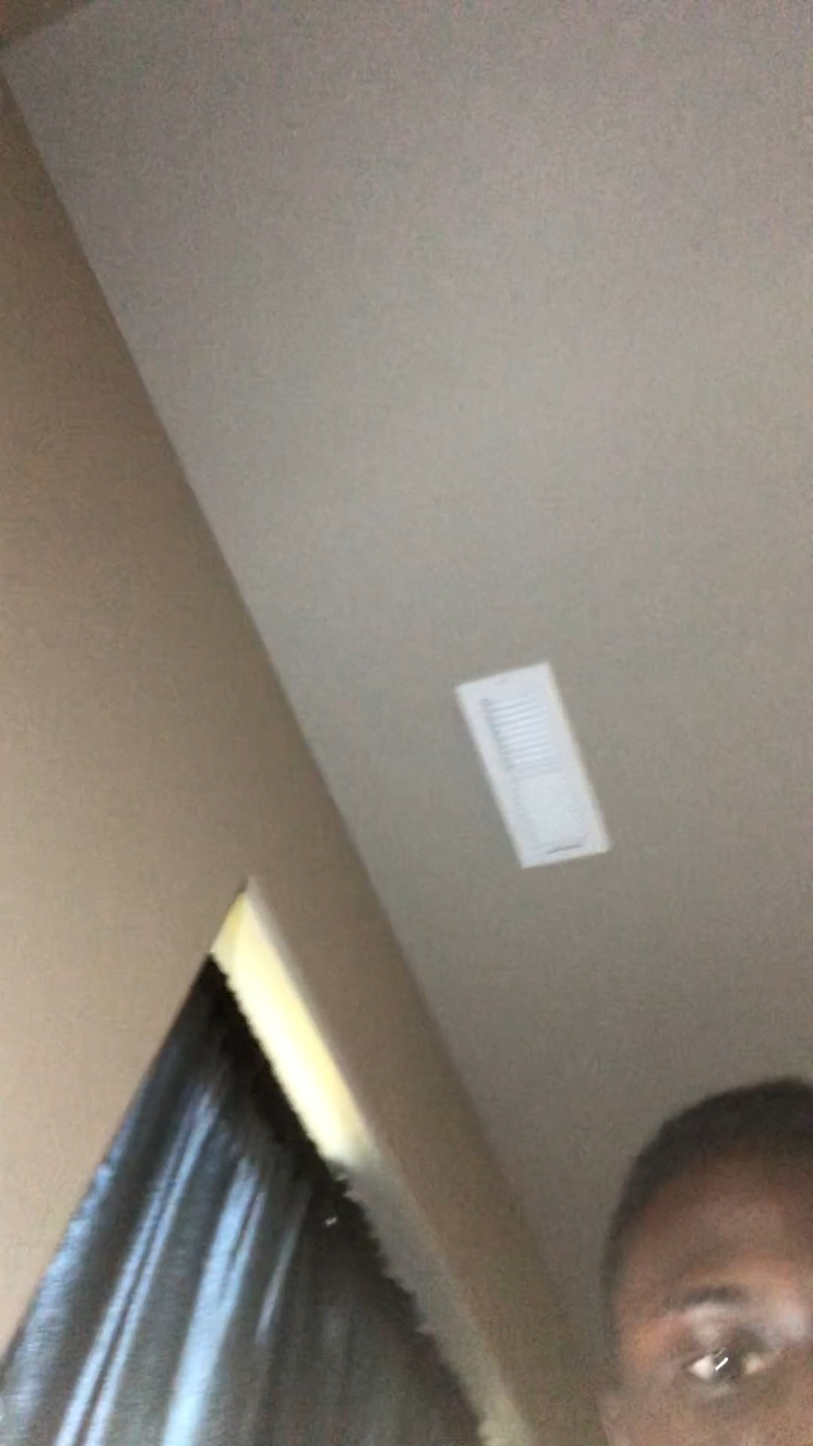face: (606, 1115, 813, 1446)
